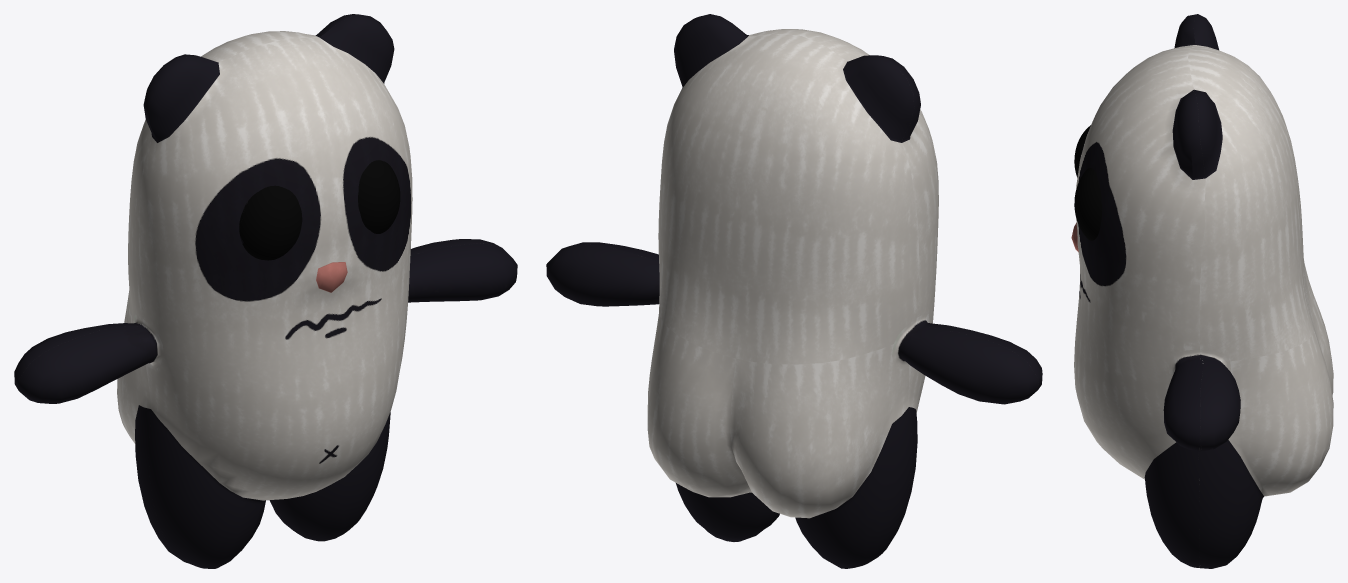
File: panda-smooth-shade-color-metall.fbx
3 renders of one model, left to right at view 1: azimuth 30°, elevation 25°; view 2: azimuth 150°, elevation 25°; view 3: azimuth 270°, elevation 25°, orthographic. The views are drawn at different scales.
Visible parts, largest first — view 1: Body, Eyes; view 2: Body; view 3: Body, Eyes.
Boxes of the visible parts, x1,y1,x2,y2 form: Body: (14,14,517,568); Eyes: (239,160,400,260); Body: (546,14,1042,568); Body: (1071,14,1333,568); Eyes: (1074,125,1101,240).
Bounding box in the file's own units: 349 × 350 × 171.
Materials: 2 (2 with a texture image).
